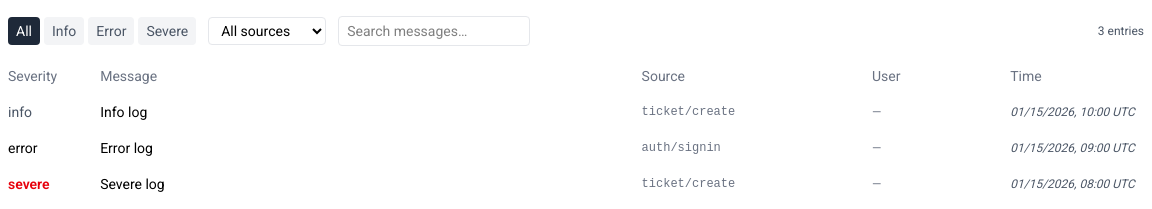
Test: LogViewer › filters to error severity only
The image size is (1152, 209).
Click the button "error": (111, 31) x1=88 y1=17 x2=134 y2=45
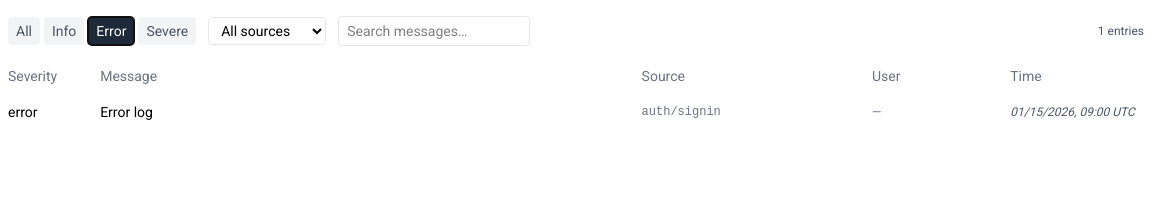
Expected: the text "Error log" is shown, x1=100 y1=104 x2=153 y2=120
Now the text "Info log" is gone
Now the text "Severe log" is gone
